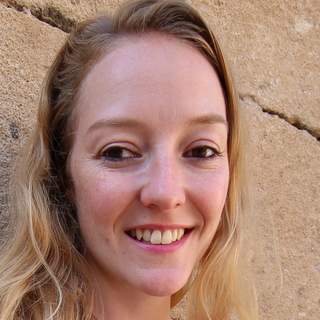eye: (92, 139, 145, 169), (175, 139, 226, 167)
